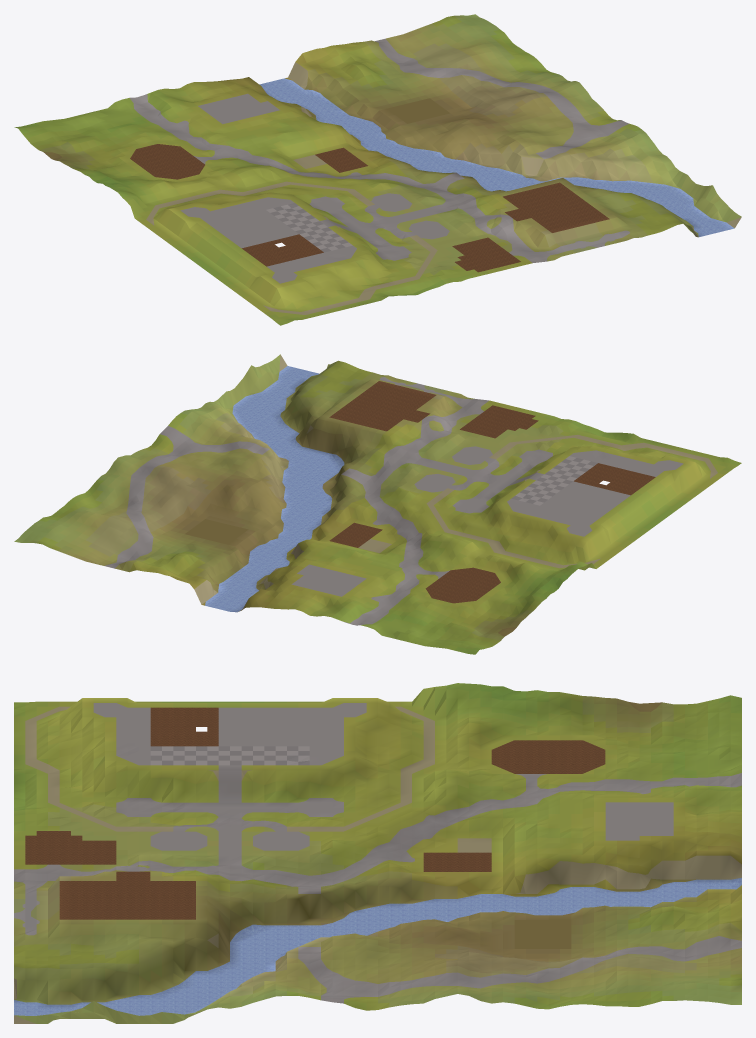
3 renders of one model, top to bottom at view 1: azimuth 30°, elevation 25°; view 2: azimuth 150°, elevation 25°; view 3: azimuth 270°, elevation 25°, orthographic. The views are drawn at different scales.
Parts seen in each view (by area): view 1: model; view 2: model; view 3: model.
Part boxes in pixels (bbox=[...]): model: bbox=[14, 14, 741, 325]; model: bbox=[14, 354, 741, 654]; model: bbox=[14, 683, 741, 1023].
Size of the model in its own units: 64 by 3.69 by 64.
3 materials, 2 textured.
